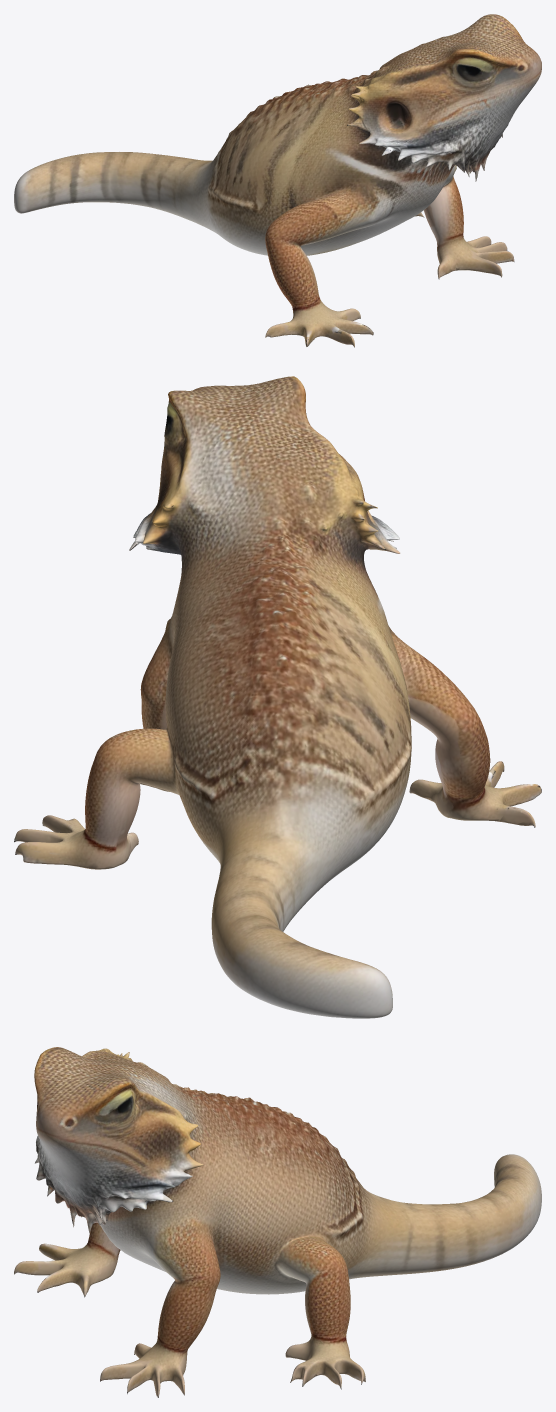
File: vet_animal_bearded_dragon.glb
3 renders of one model, top to bottom at view 1: azimuth 30°, elevation 25°; view 2: azimuth 150°, elevation 25°; view 3: azimuth 270°, elevation 25°, orthographic. The views are drawn at different scales.
Visible parts, largest first — view 1: model; view 2: model; view 3: model.
Boxes of the visible parts, x1,y1,x2,y2 form: model: (14, 14, 541, 347); model: (14, 376, 541, 1018); model: (14, 1047, 541, 1397).
Bounding box in the file's own units: 1.68 × 1.2 × 1.9.
1 material, 1 textured.
